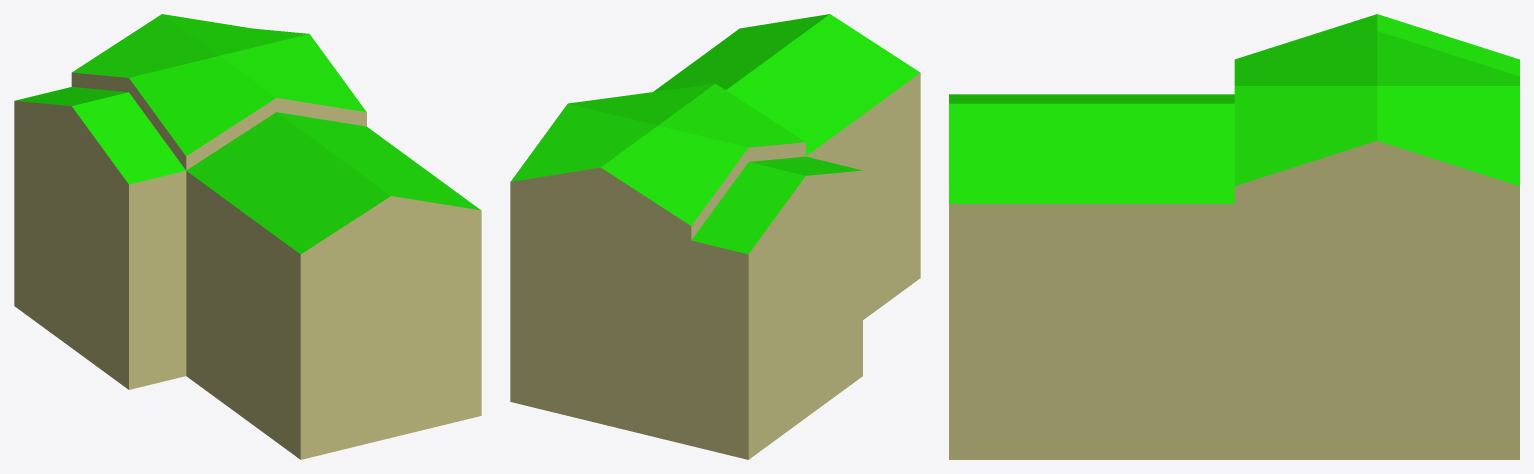
File: 5churh.fbx
3 renders of one model, left to right at view 1: azimuth 30°, elevation 25°; view 2: azimuth 150°, elevation 25°; view 3: azimuth 270°, elevation 25°, orthographic. The views are drawn at different scales.
Visible parts, largest first — view 1: Cube.030; view 2: Cube.030; view 3: Cube.030.
Boxes of the visible parts, x1,y1,x2,y2 form: Cube.030: (14,14,481,459); Cube.030: (510,14,920,459); Cube.030: (949,14,1519,459).
Bounding box in the file's own units: 1722 × 1772 × 2872.
